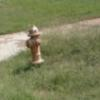a fire hydrant: (24, 26, 47, 66)
